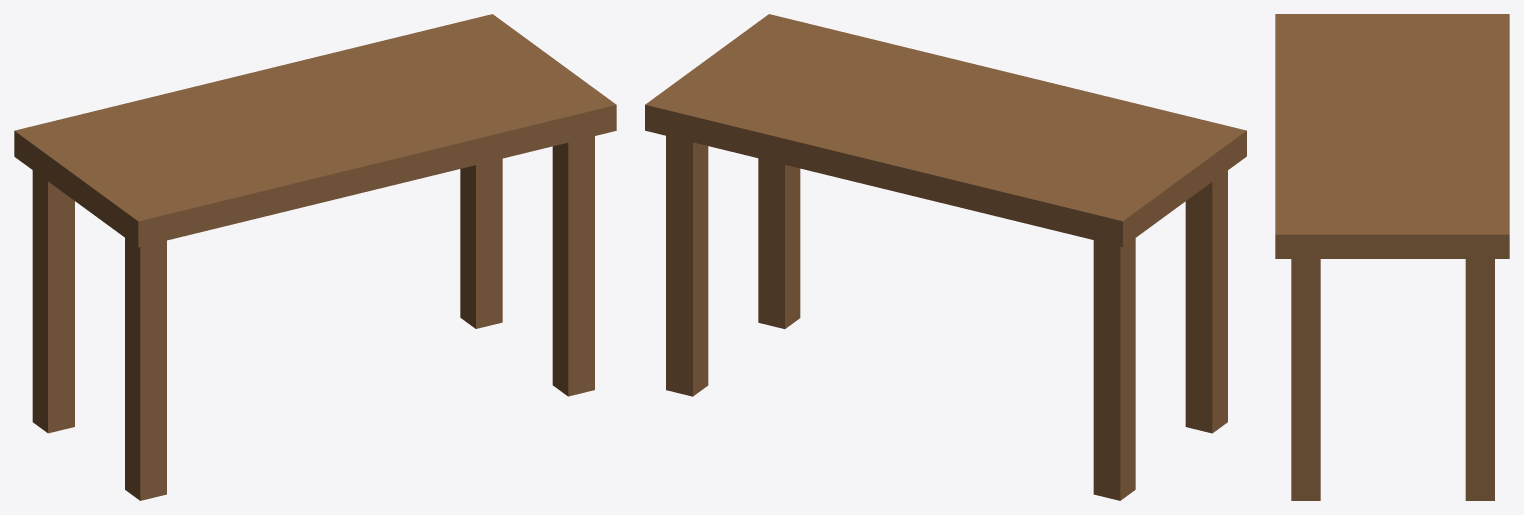
File: computertable.fbx
The picture shows the model from 3 angles, left to right: view 1: azimuth 30°, elevation 25°; view 2: azimuth 150°, elevation 25°; view 3: azimuth 270°, elevation 25°; orthographic projection. The views are drawn at different scales.
Parts seen in each view (by area): view 1: computertable; view 2: computertable; view 3: computertable.
Part boxes in pixels (box(x1,y1,x2,y2)): computertable: box(14, 14, 616, 500); computertable: box(645, 14, 1246, 500); computertable: box(1275, 14, 1509, 500).
Size of the model in its own units: 1.26 by 0.5657 by 0.725.
1 material, 1 textured.
